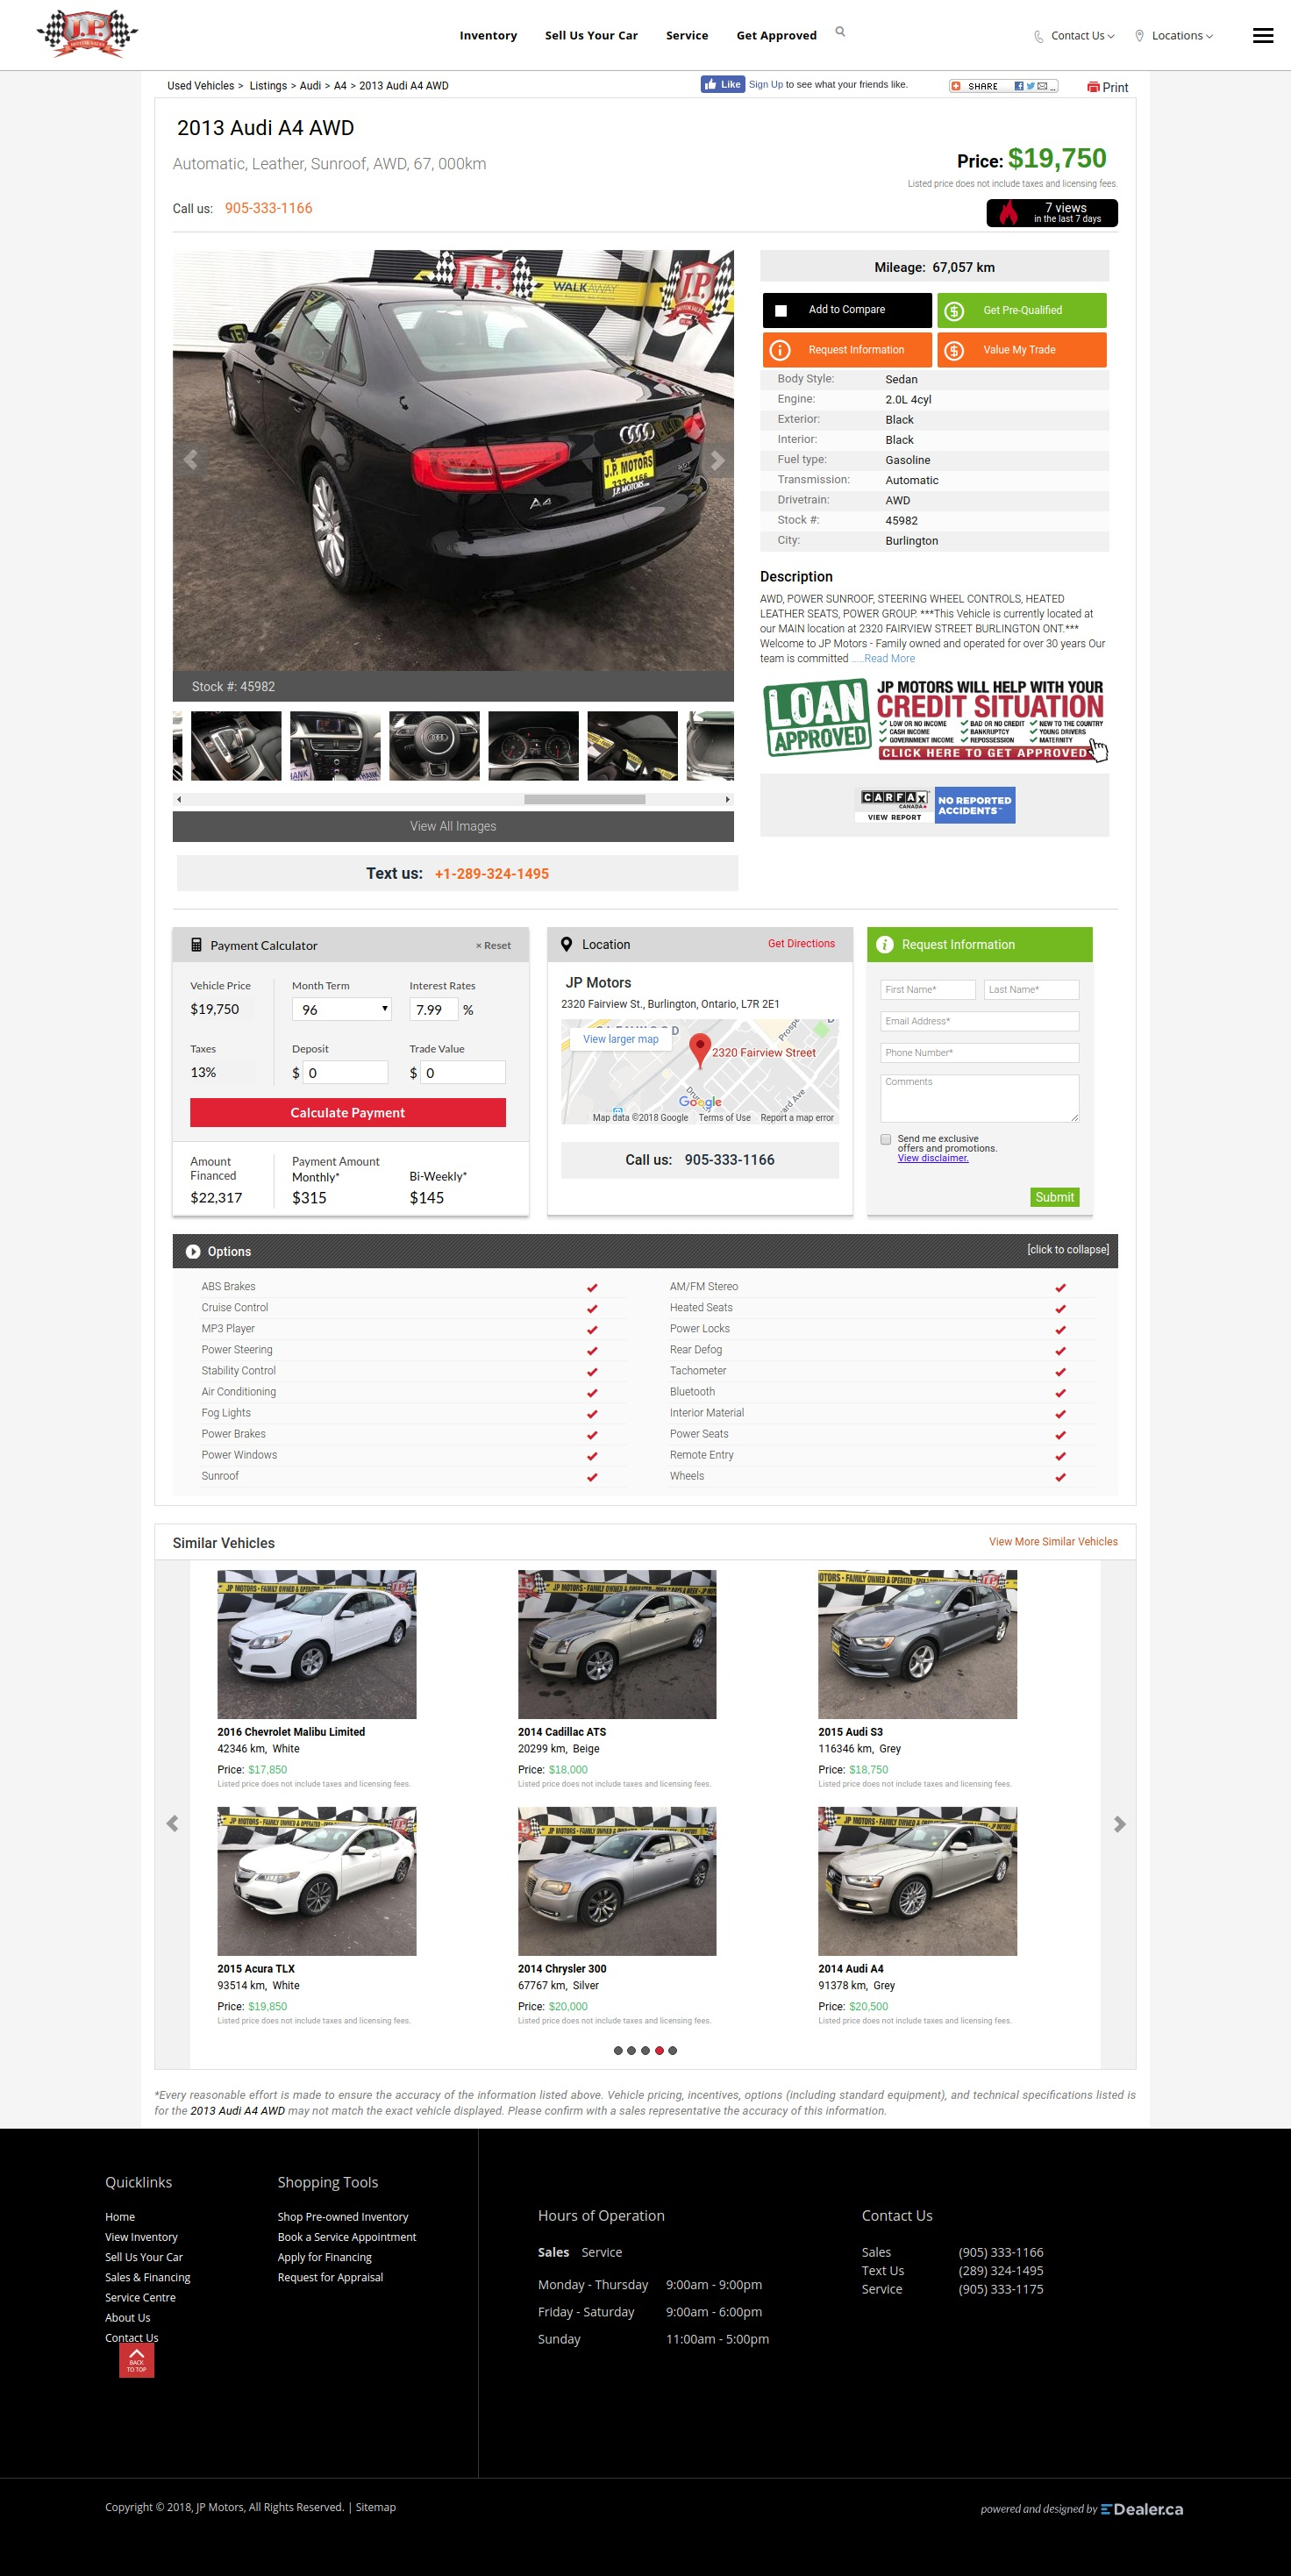car: (726, 795, 731, 805)
